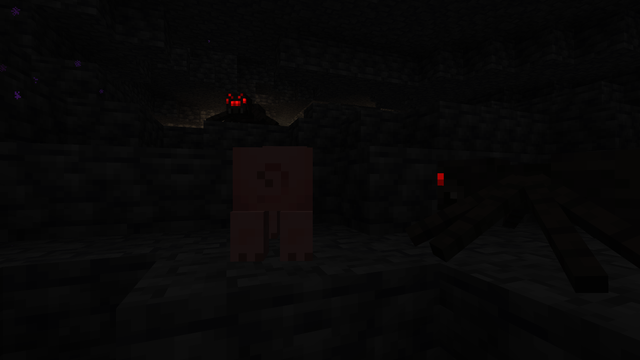araignees: (409, 127, 627, 296), (217, 87, 273, 124)
cochons: (231, 142, 341, 261)
